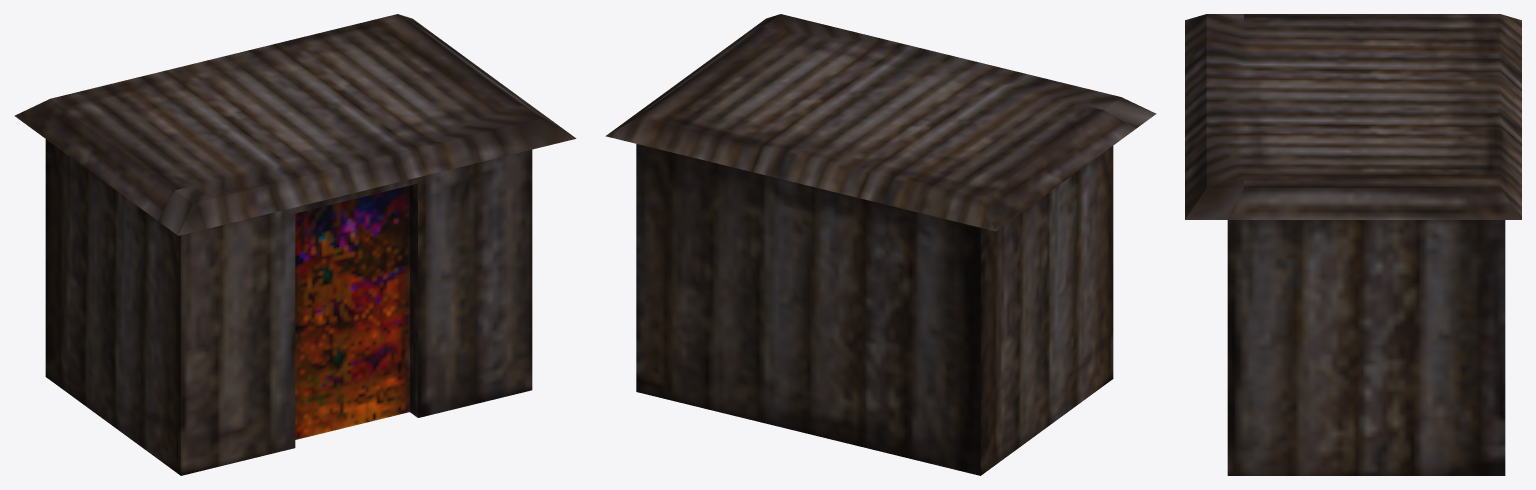
The model's file is mökki.fbx.
3 renders of one model, left to right at view 1: azimuth 30°, elevation 25°; view 2: azimuth 150°, elevation 25°; view 3: azimuth 270°, elevation 25°, orthographic. The views are drawn at different scales.
Visible parts, largest first — view 1: pCube1; view 2: pCube1; view 3: pCube1.
Boxes of the visible parts, x1,y1,x2,y2 form: pCube1: [14, 14, 576, 475]; pCube1: [605, 14, 1156, 475]; pCube1: [1185, 14, 1521, 475].
Size of the model in its own units: 3.4 by 2.28 by 2.43.
